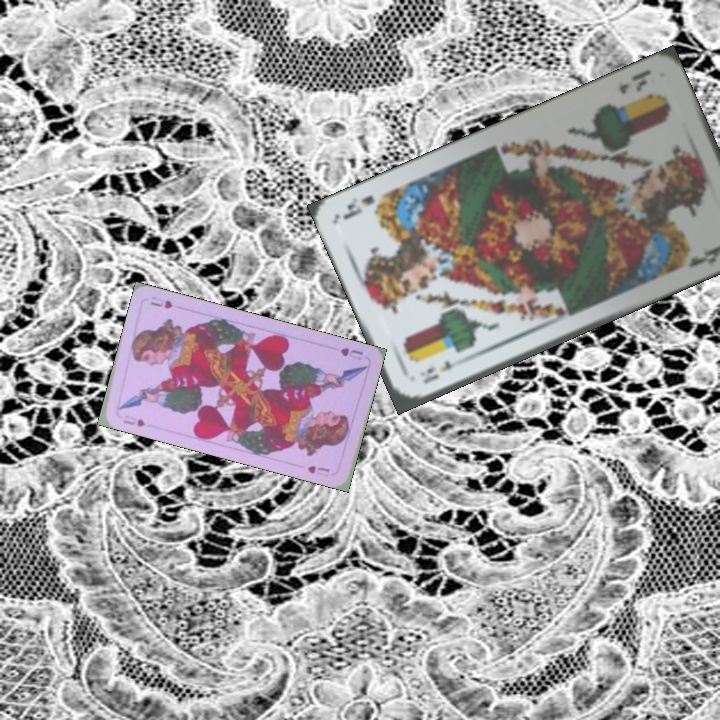EK: (418, 354, 467, 386), (614, 65, 654, 97)
HU: (336, 344, 366, 363), (119, 415, 149, 429)
